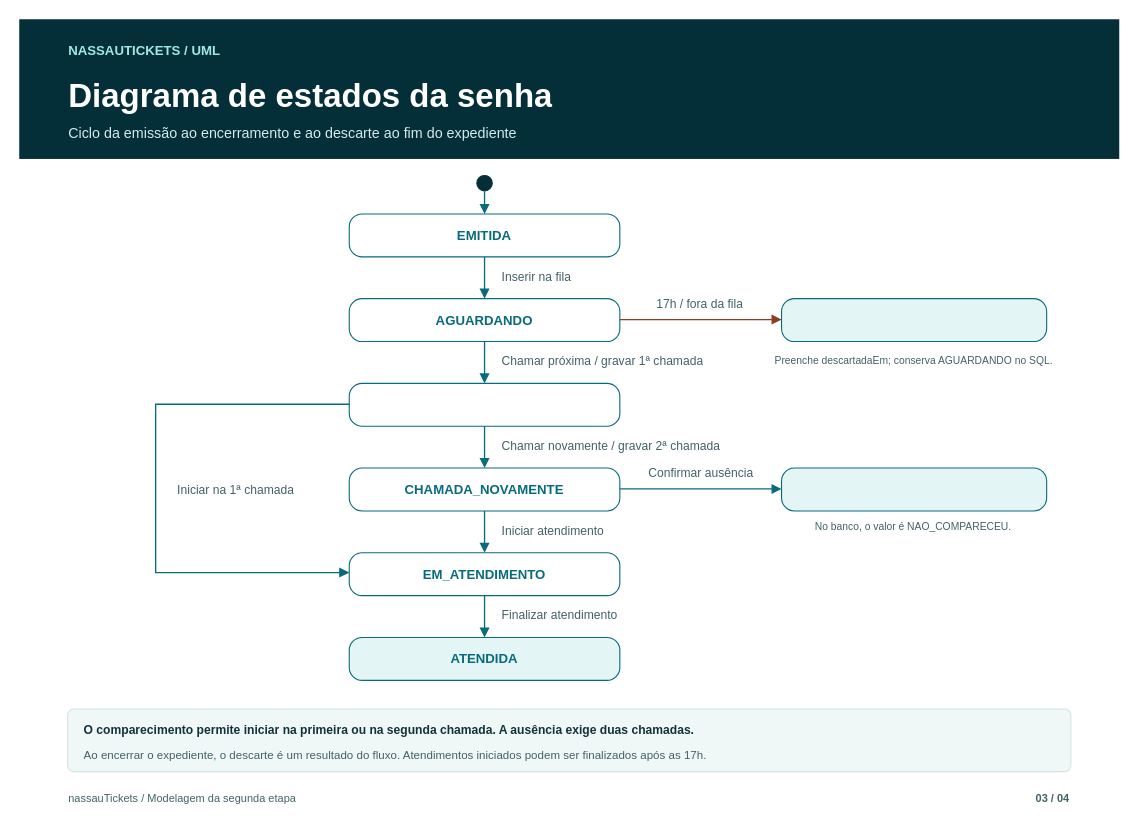
The diagram is 1137 pixels wide and 826 high, and some of its shapes have lost their labels. The shapes that lost their labels are listed below. From the top down, each one's centre as x and y in pixels, then its label:
the point at 913,320: Descarte no expediente
the point at 484,404: CHAMADA
the point at 913,489: NÃO_COMPARECEU
